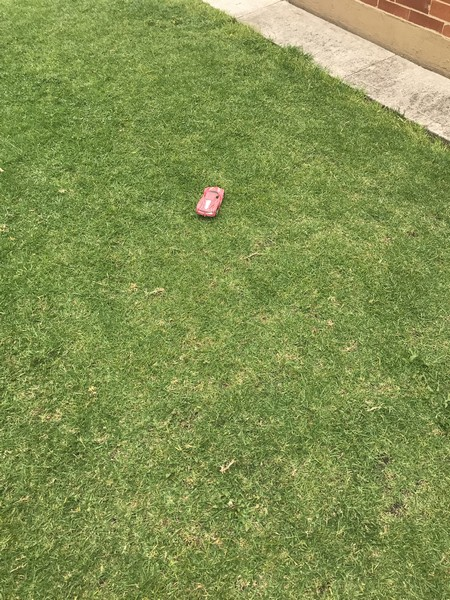RC: (196, 183, 225, 221)
